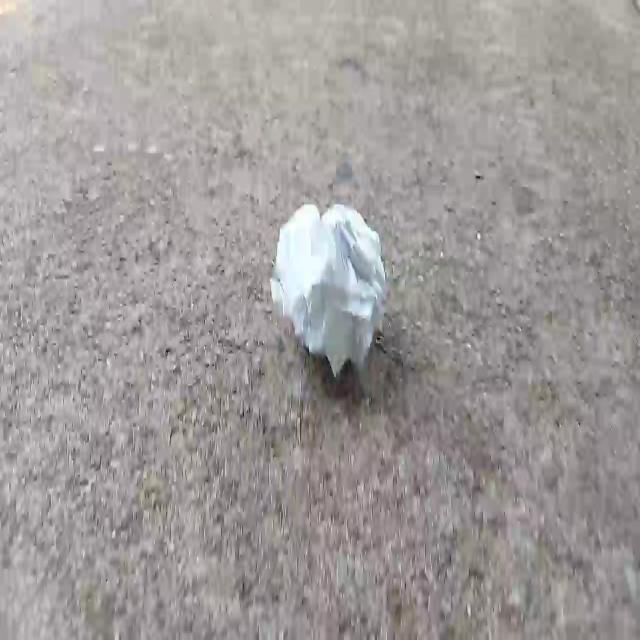Paper: (247, 173, 433, 403)
